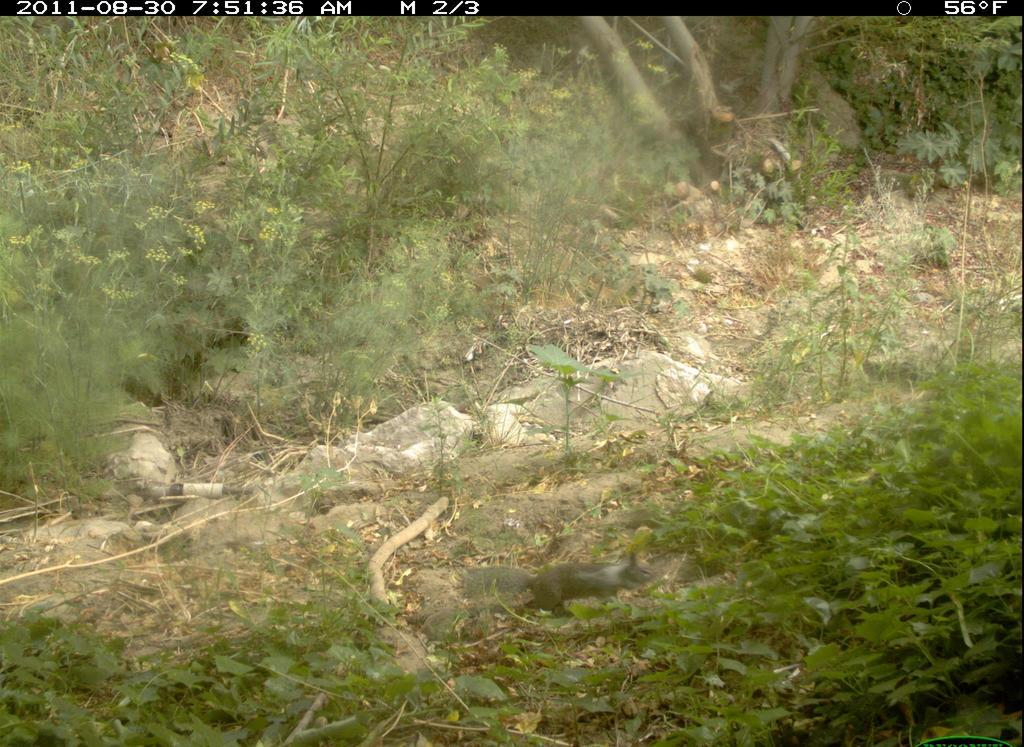squirrel: (456, 552, 676, 619)
